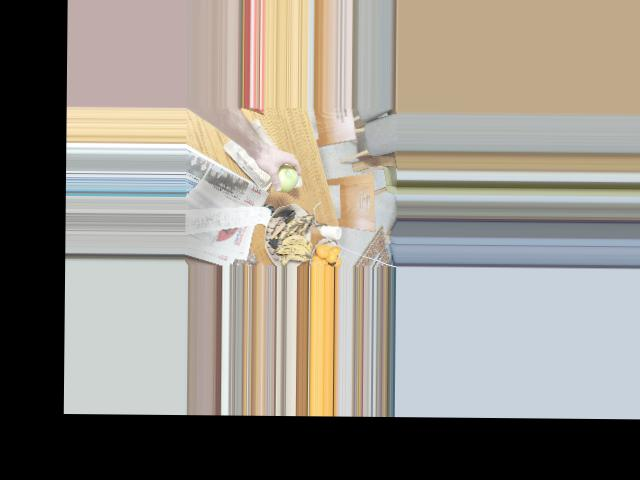apple: (268, 159, 302, 193)
